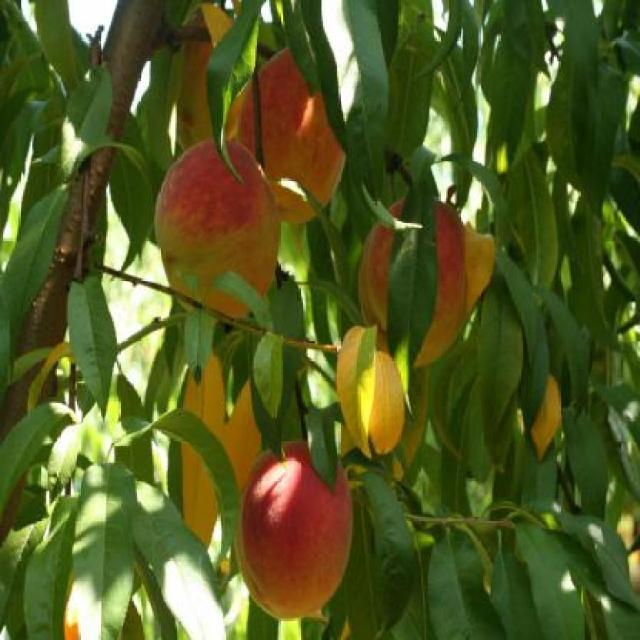Peach: (154, 138, 278, 324), (226, 45, 348, 226), (234, 442, 350, 624), (356, 196, 466, 372), (169, 11, 249, 148)
